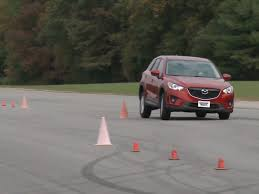car: (138, 54, 234, 119)
cone: (94, 116, 113, 147), (119, 98, 130, 119), (214, 155, 227, 171), (20, 95, 30, 111), (131, 140, 142, 154), (167, 149, 180, 160), (10, 98, 16, 111), (2, 97, 7, 109)
